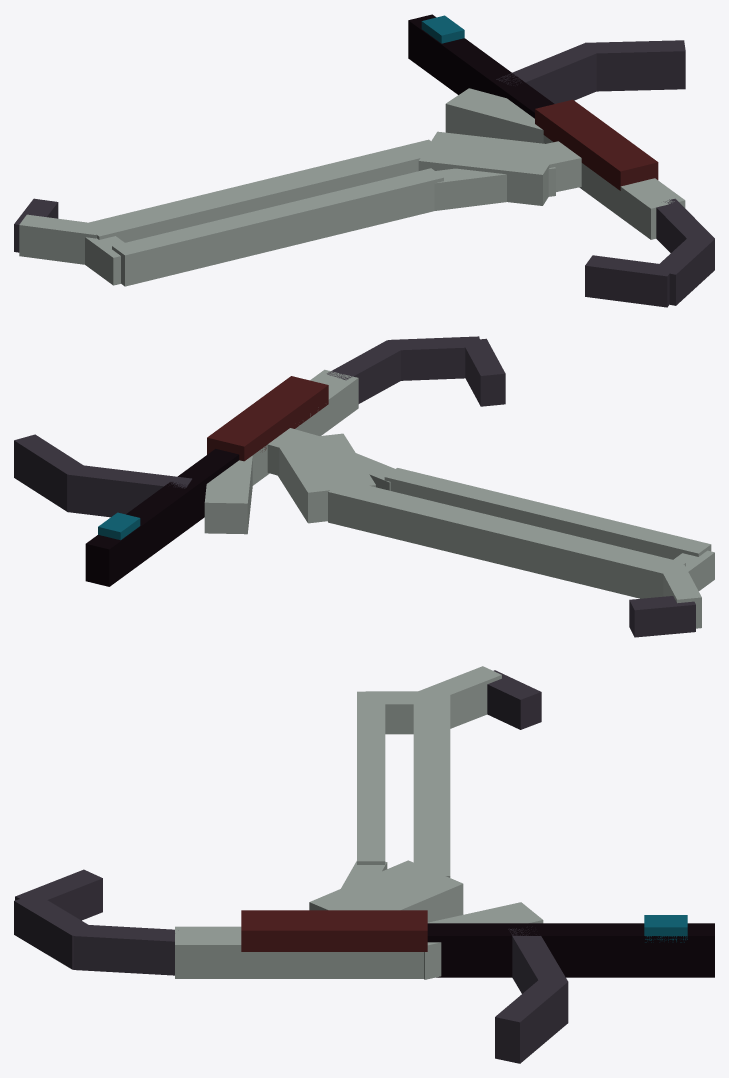
File: CMU3DRMCGlassesMedicalHUDGlassesOffWorldCloud.glb
The picture shows the model from 3 angles, top to bottom: view 1: azimuth 30°, elevation 25°; view 2: azimuth 150°, elevation 25°; view 3: azimuth 270°, elevation 25°; orthographic projection. The views are drawn at different scales.
Visible parts, largest first — view 1: connected medical frame segment 02, connected medical frame segment 01, connected medical frame segment 03, source red upright electronics, upper instrument mast, outer bracket end, connected medical frame segment 04, connected medical frame segment 08, upper projecting bracket, connected medical frame segment 05, connected medical frame segment 00, folded temple inner join (+6 smaller); view 2: connected medical frame segment 01, connected medical frame segment 02, upper instrument mast, connected medical frame segment 03, source red upright electronics, upper projecting bracket, connected medical frame segment 04, outer bracket end, connected medical frame segment 07, connected medical frame segment 05, connected medical frame segment 06, temple terminal curl (+6 smaller); view 3: upper instrument mast, connected medical frame segment 05, source red upright electronics, connected medical frame segment 01, connected medical frame segment 03, connected medical frame segment 02, connected medical frame segment 06, outer bracket end, connected medical frame segment 07, connected medical frame segment 00, connected medical frame segment 08, temple terminal curl (+4 smaller).
Boxes of the visible parts, box(x1,y1,x2,y2) form: connected medical frame segment 02: box(112, 168, 443, 286); connected medical frame segment 01: box(89, 139, 444, 242); connected medical frame segment 03: box(418, 131, 560, 205); source red upright electronics: box(535, 99, 658, 190); upper instrument mast: box(408, 14, 554, 118); outer bracket end: box(585, 40, 685, 91); connected medical frame segment 04: box(445, 88, 543, 143); connected medical frame segment 08: box(585, 255, 669, 307); upper projecting bracket: box(496, 43, 602, 103); connected medical frame segment 05: box(543, 135, 685, 239); connected medical frame segment 00: box(19, 214, 103, 264); folded temple inner join: box(434, 167, 555, 210); connected medical frame segment 01: box(328, 486, 685, 598); connected medical frame segment 02: box(384, 468, 711, 559); upper instrument mast: box(85, 448, 239, 586); connected medical frame segment 03: box(276, 433, 375, 523); source red upright electronics: box(207, 376, 328, 461); upper projecting bracket: box(67, 464, 191, 517); connected medical frame segment 04: box(204, 455, 252, 534); outer bracket end: box(14, 434, 82, 511); connected medical frame segment 07: box(388, 336, 481, 380); connected medical frame segment 05: box(252, 369, 358, 485); connected medical frame segment 06: box(327, 340, 406, 403); temple terminal curl: box(629, 596, 695, 637); upper instrument mast: box(427, 923, 714, 977); connected medical frame segment 05: box(175, 926, 423, 978); source red upright electronics: box(241, 910, 427, 951); connected medical frame segment 01: box(413, 691, 450, 877); connected medical frame segment 03: box(309, 860, 463, 922); connected medical frame segment 02: box(357, 691, 385, 864); connected medical frame segment 06: box(73, 924, 174, 975); outer bracket end: box(495, 977, 567, 1063); connected medical frame segment 07: box(14, 894, 92, 969); connected medical frame segment 00: box(418, 666, 501, 728); connected medical frame segment 08: box(15, 869, 102, 920); temple terminal curl: box(487, 670, 541, 729).
Size of the model in its own units: 0.6183 by 0.041 by 0.5052.
